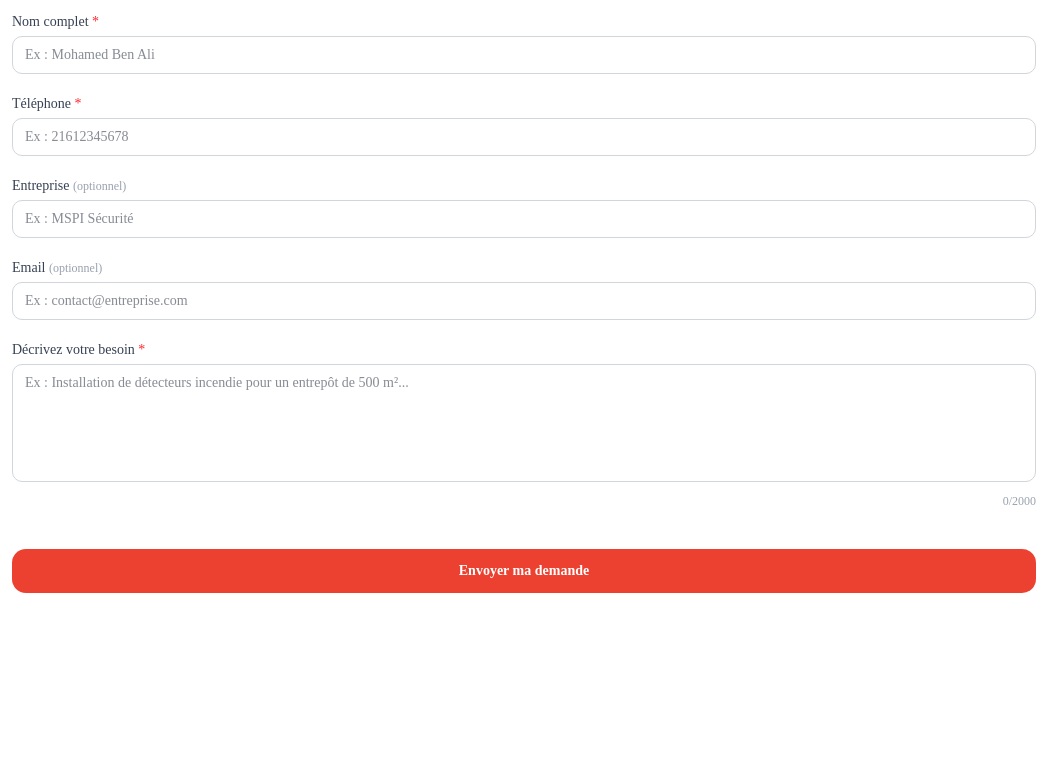
Test case: QuoteForm › shows invalid email error when email format is wrong
Type "John Doe" into the field with placeholder "Ex : Mohamed Ben Ali" at (524, 55), box x1=12 y1=36 x2=1036 y2=74
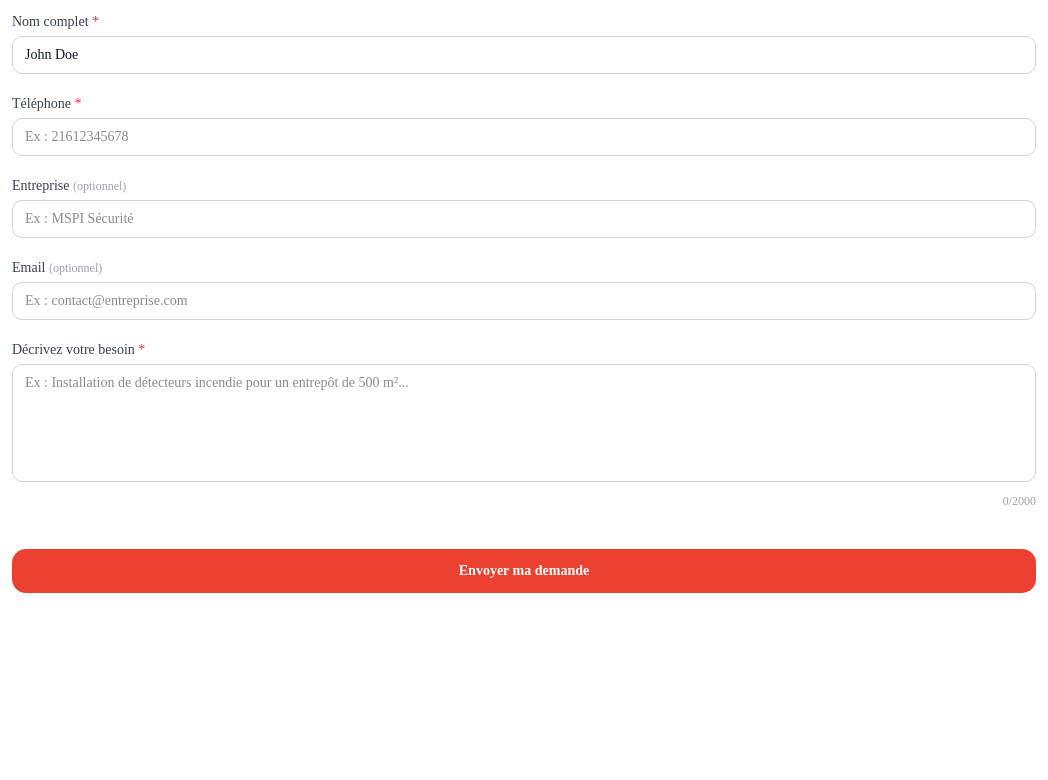
Type "21699999999" into the field with placeholder "Ex : 21612345678" at (524, 137), box x1=12 y1=118 x2=1036 y2=156
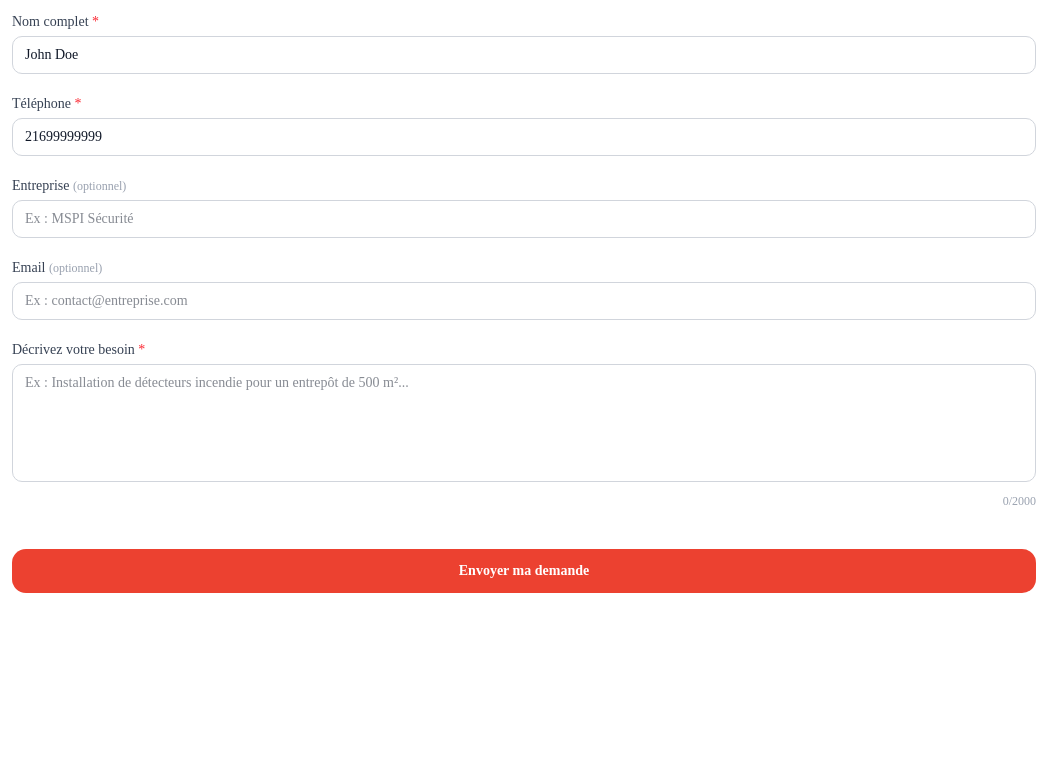
Type "not-an-email" into the field with placeholder "Ex : contact@entreprise.com" at (524, 301), box x1=12 y1=282 x2=1036 y2=320
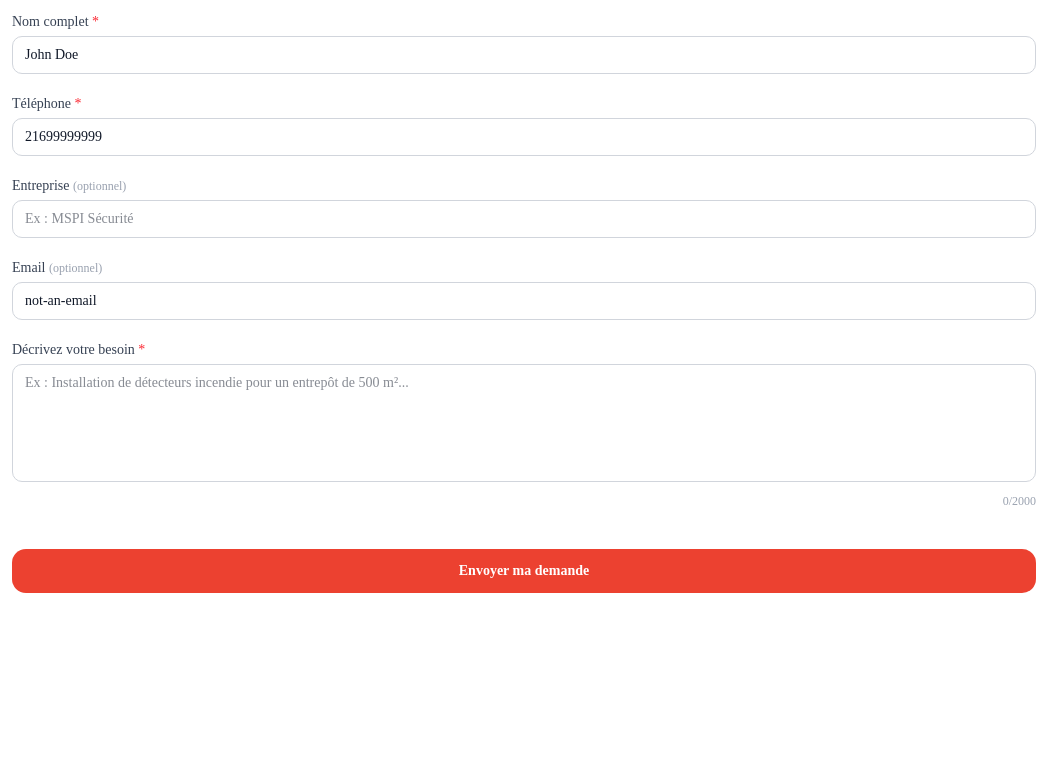
Replace the text in the text box with placeholder "Installation de détecteurs incendie pour un entrepôt de 500 m²" with "Installation de détecteurs incendie pour un entrepôt" at (524, 423), box x1=12 y1=364 x2=1036 y2=482
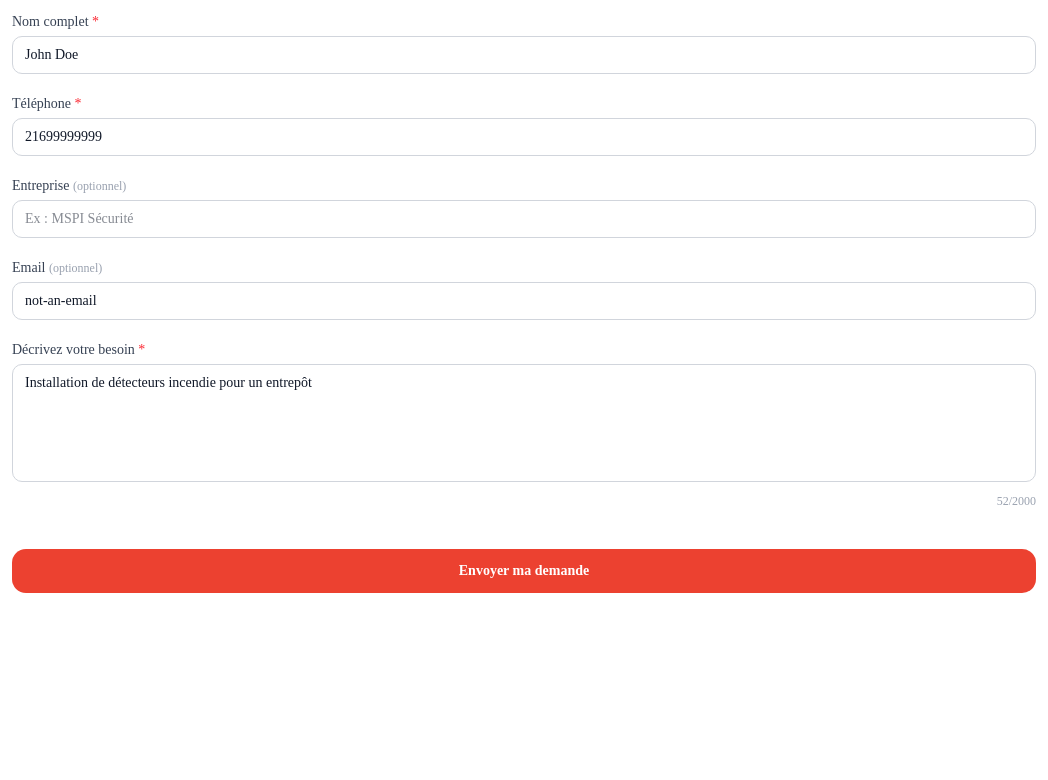
Click the button "Envoyer ma demande" at (524, 571), box x1=12 y1=549 x2=1036 y2=593
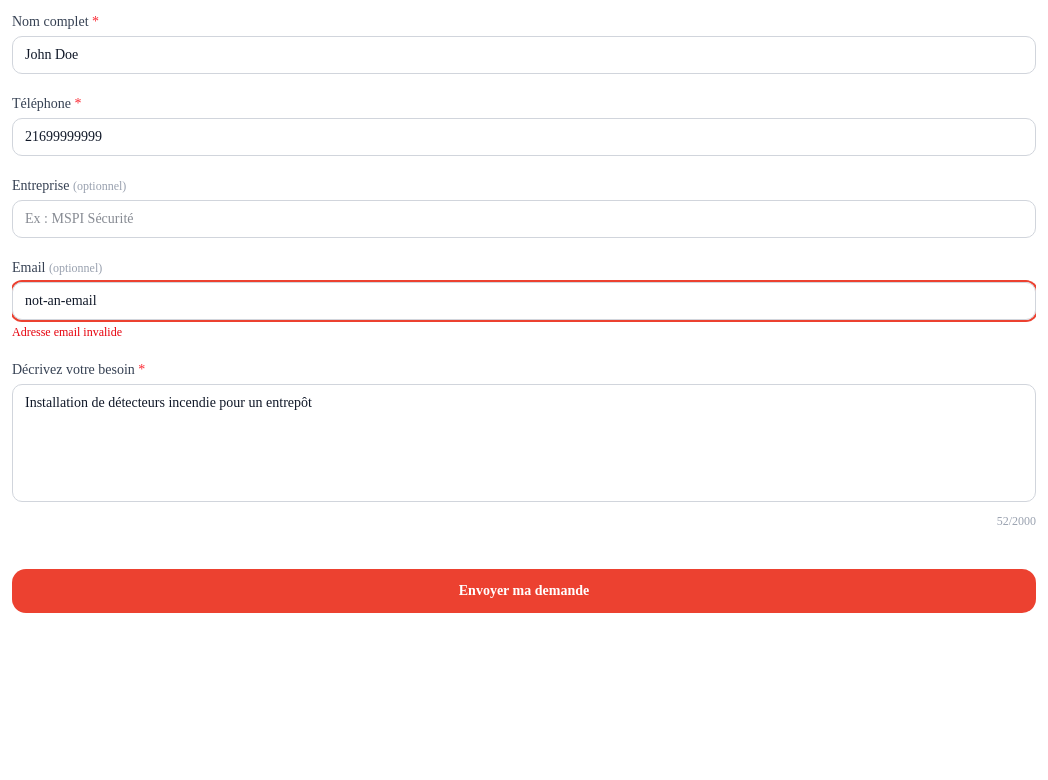
Expected: the text "Adresse email invalide" is shown, x1=12 y1=325 x2=122 y2=339
